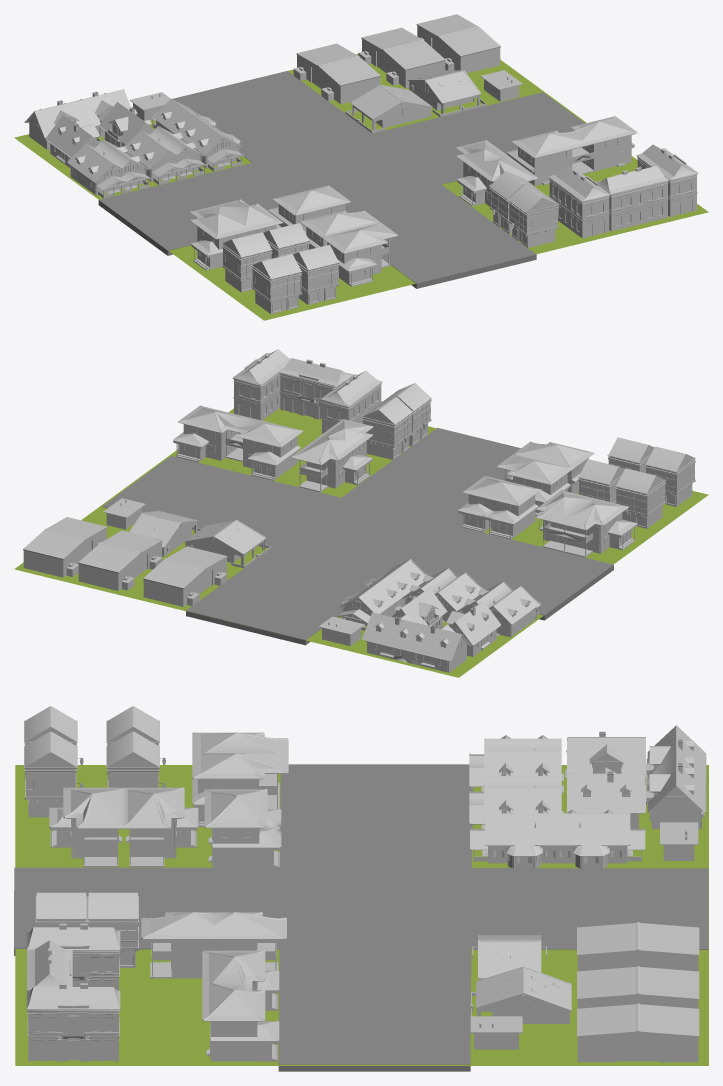
File: buildings.glb
3 renders of one model, top to bottom at view 1: azimuth 30°, elevation 25°; view 2: azimuth 150°, elevation 25°; view 3: azimuth 270°, elevation 25°, orthographic. The views are drawn at different scales.
Parts seen in each view (by area): view 1: Line002, Plane001, City_building_026, City_building_022, City_building_038, City_building_007, City_building_016, City_building_023, City_building_011, City_building_004, City_building_010, City_building_014 (+17 smaller); view 2: Line002, Plane001, City_building_026, City_building_038, City_building_033, City_building_034, City_building_037, City_building_022, City_building_007, City_building_011, City_building_023, City_building_014 (+17 smaller); view 3: Line002, Plane001, City_building_022, City_building_014, City_building_026, City_building_017, City_building_023, City_building_034, City_building_038, City_building_037, City_building_007, City_building_033 (+17 smaller).
Part boxes in pixels (x1,y1,x2,y2): Line002: [98, 71, 584, 288]; Plane001: [14, 54, 708, 320]; City_building_026: [507, 116, 637, 185]; City_building_022: [300, 210, 397, 286]; City_building_038: [190, 199, 283, 270]; City_building_007: [293, 43, 380, 104]; City_building_016: [596, 166, 668, 231]; City_building_023: [416, 14, 500, 73]; City_building_011: [358, 27, 445, 88]; City_building_004: [67, 139, 151, 198]; City_building_010: [548, 166, 610, 238]; City_building_014: [150, 98, 243, 171]; Line002: [102, 428, 613, 645]; Plane001: [14, 408, 708, 677]; City_building_026: [173, 405, 303, 480]; City_building_038: [536, 490, 637, 557]; City_building_033: [362, 612, 471, 672]; City_building_034: [291, 419, 373, 492]; City_building_037: [458, 475, 540, 539]; City_building_022: [496, 441, 594, 516]; City_building_007: [143, 546, 227, 606]; City_building_011: [78, 530, 162, 590]; City_building_023: [23, 517, 107, 577]; City_building_014: [337, 559, 429, 630]; Line002: [14, 764, 708, 1071]; Plane001: [15, 765, 708, 1065]; City_building_022: [49, 787, 198, 867]; City_building_014: [470, 809, 645, 868]; City_building_026: [202, 950, 279, 1061]; City_building_017: [26, 983, 120, 1061]; City_building_023: [577, 1003, 699, 1062]; City_building_034: [141, 912, 286, 978]; City_building_038: [192, 732, 288, 826]; City_building_037: [204, 789, 281, 867]; City_building_007: [577, 922, 699, 971]; City_building_033: [645, 725, 706, 828].
Size of the model in its own units: 96.86 by 11.73 by 94.37.
